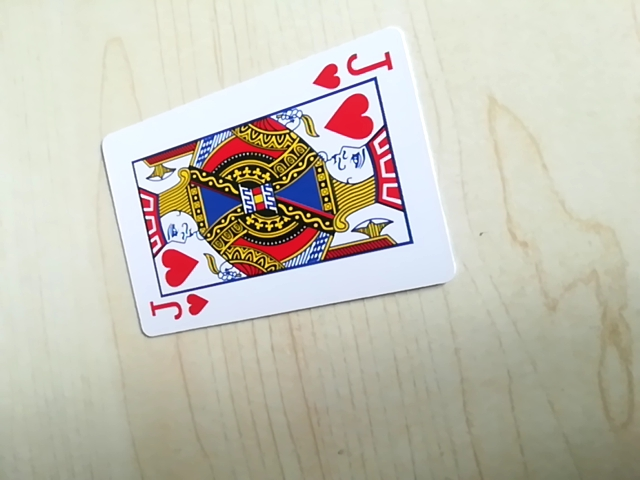hx j: (309, 44, 398, 95), (141, 288, 214, 331)
